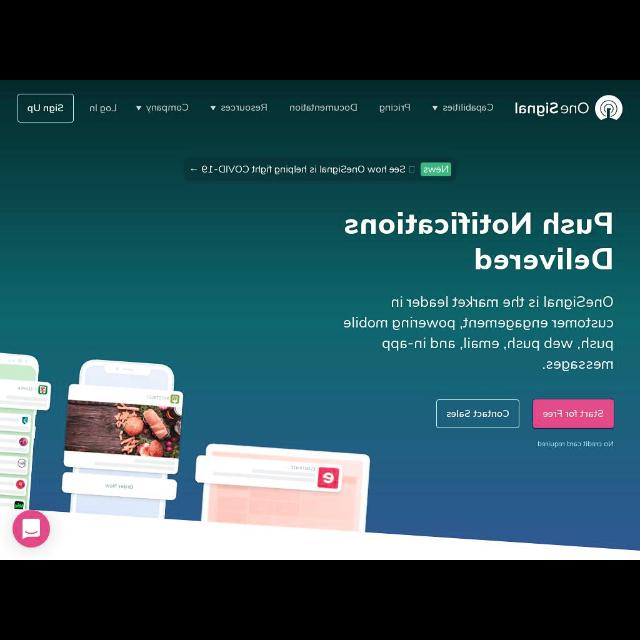button: (12, 506, 48, 546)
icon: (208, 101, 220, 112), (189, 164, 199, 176), (134, 100, 142, 112), (432, 103, 438, 111)
image: (1, 343, 368, 539), (514, 95, 626, 124)
spinner: (431, 101, 494, 115), (134, 100, 190, 114), (212, 101, 266, 113)
text: (343, 296, 615, 378), (343, 210, 612, 240), (476, 248, 612, 272), (200, 163, 404, 174), (290, 103, 356, 113), (537, 440, 613, 448), (442, 101, 493, 112), (146, 104, 190, 114), (380, 102, 412, 114), (222, 104, 268, 112), (92, 102, 118, 114)
textbutton: (437, 399, 519, 429), (534, 398, 612, 428), (18, 94, 72, 122), (421, 162, 451, 175)
toolbar: (1, 84, 637, 134)
